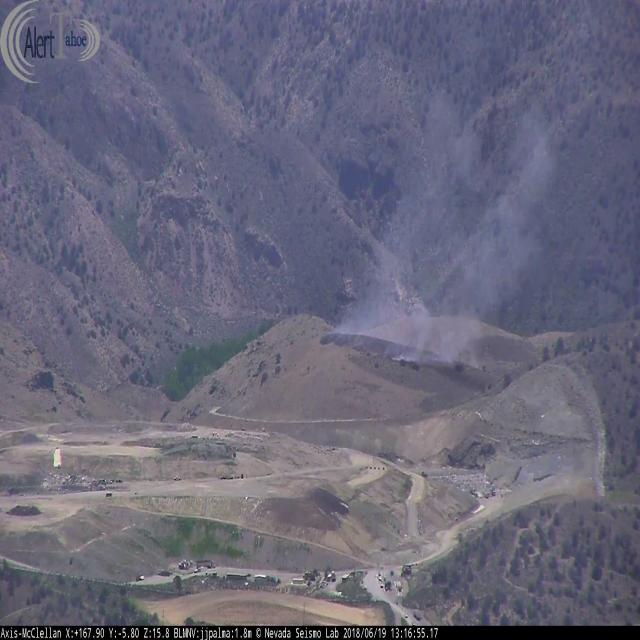smoke: (320, 97, 578, 360)
